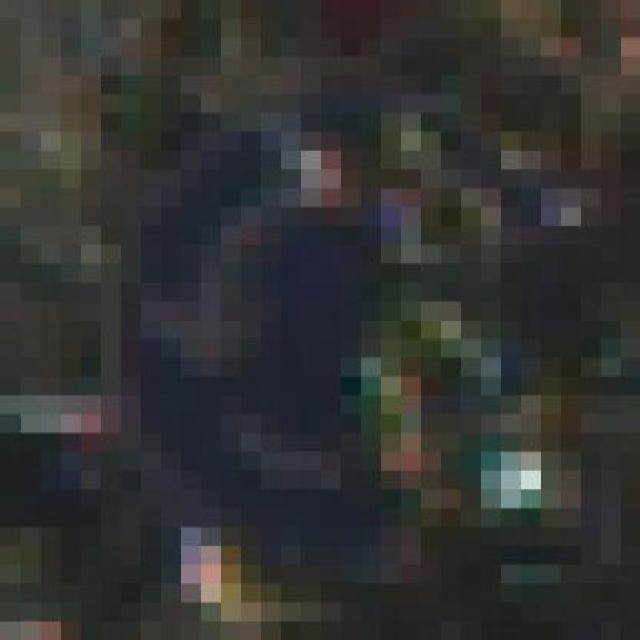Round-About: (100, 75, 600, 583)
